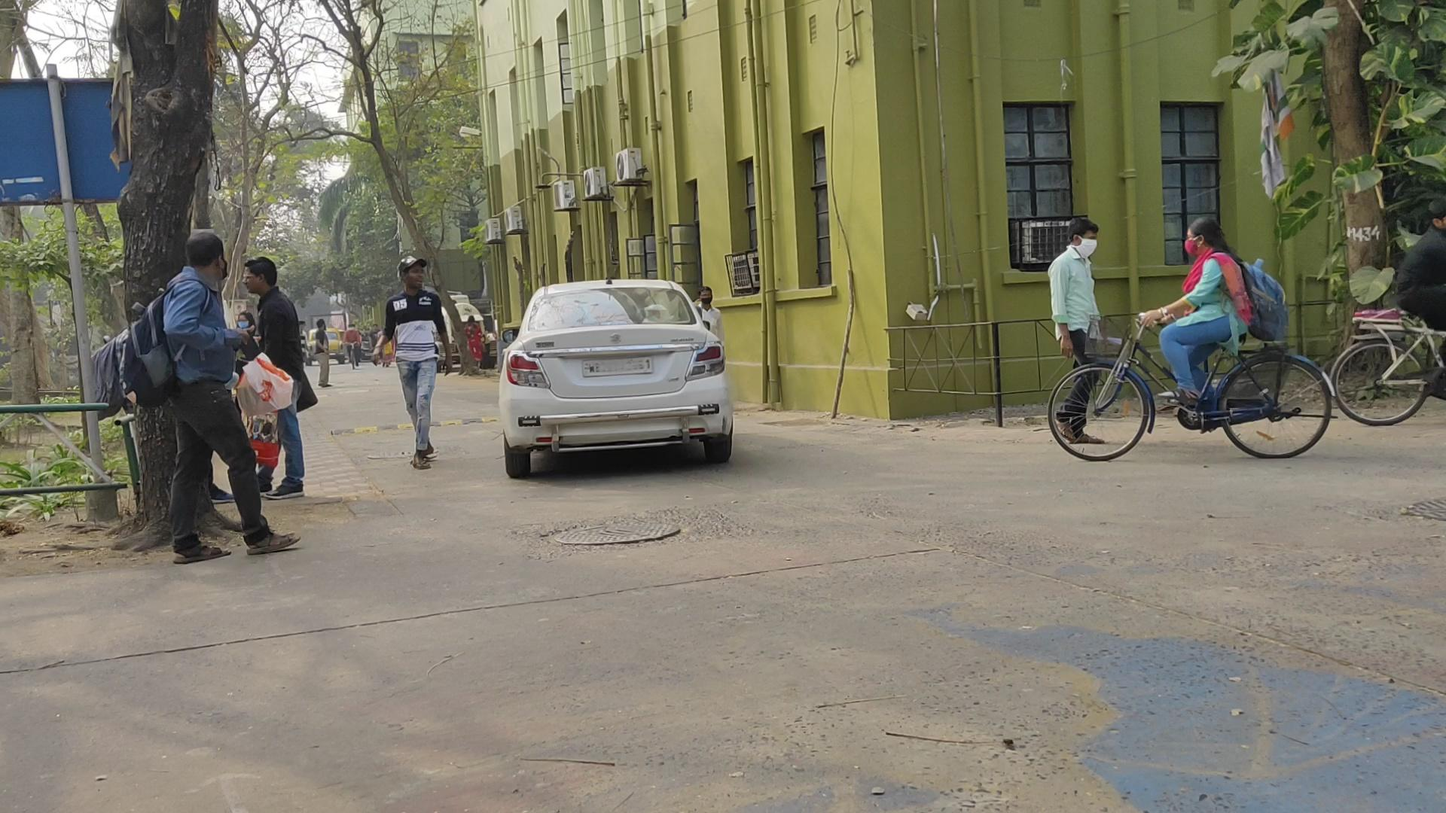bike: (1048, 217, 1334, 462), (1329, 205, 1446, 426), (342, 324, 363, 371)
car: (497, 278, 732, 478)
